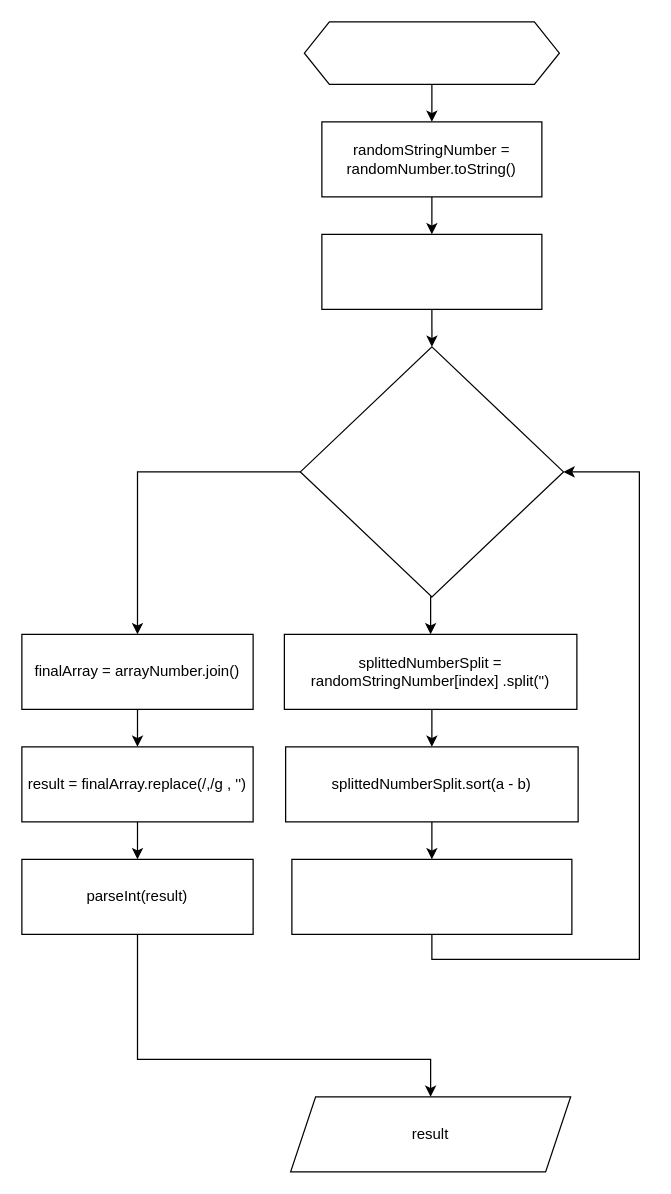
Image size: 671x1194. Some labels were removed from this diagram. Here are the shapes that lost their labels. From the top down, the centre of each, then its label:
At (x=431, y=52): "randomNumber;".
At (x=431, y=271): "splittedNumber = randomStringNumber .split(0)".
At (x=431, y=471): "index = 0 index < splittedNumber.length ?".
At (x=431, y=896): "arrayNumber.push(splittedNumberSplit); index ++".
